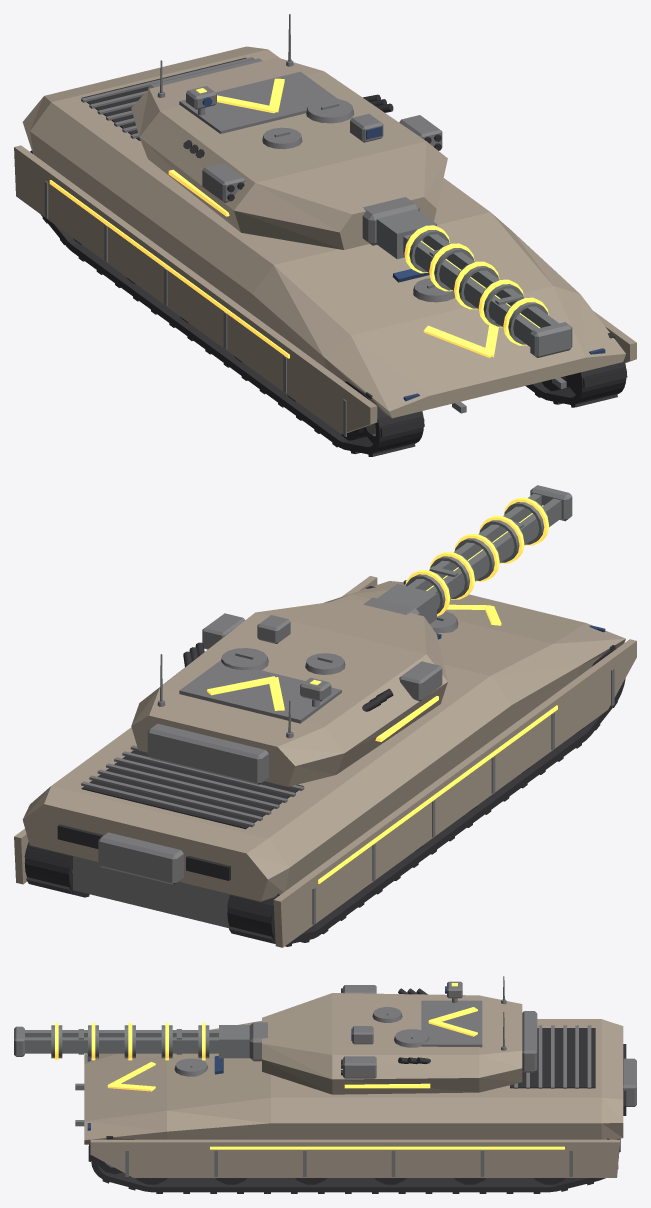
The model's file is mbt_rail_red.glb.
The picture shows the model from 3 angles, top to bottom: view 1: azimuth 30°, elevation 25°; view 2: azimuth 150°, elevation 25°; view 3: azimuth 270°, elevation 25°; orthographic projection. The views are drawn at different scales.
Parts seen in each view (by area): view 1: body, turret, gun; view 2: body, turret, gun; view 3: body, turret, gun.
Part boxes in pixels (<box>): body: <box>14,46,636,456</box>; turret: <box>131,14,447,249</box>; gun: <box>362,197,572,357</box>; body: <box>14,576,636,947</box>; turret: <box>131,599,447,786</box>; gun: <box>363,485,572,623</box>; body: <box>75,1019,636,1193</box>; turret: <box>262,976,537,1094</box>; gun: <box>14,1022,267,1061</box>.
Size of the model in its own units: 3.78 by 2.9 by 10.18.
